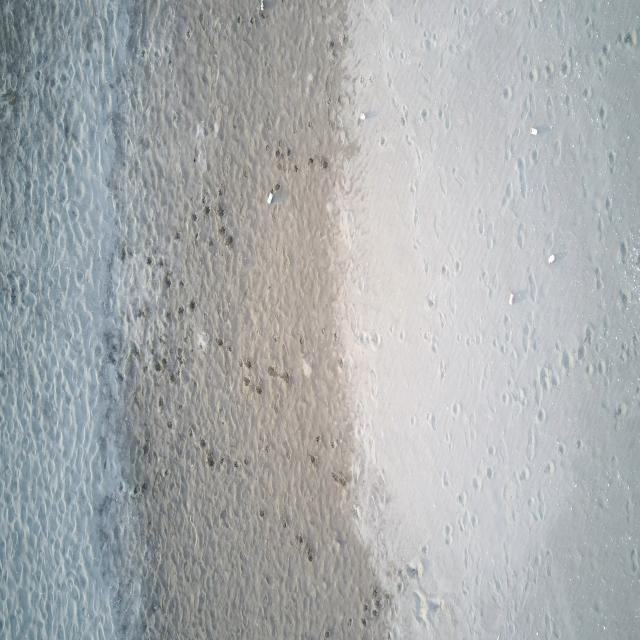tin-and-aluminum-cans: (506, 291, 514, 305), (268, 192, 276, 206), (546, 253, 555, 265), (530, 128, 538, 138)
